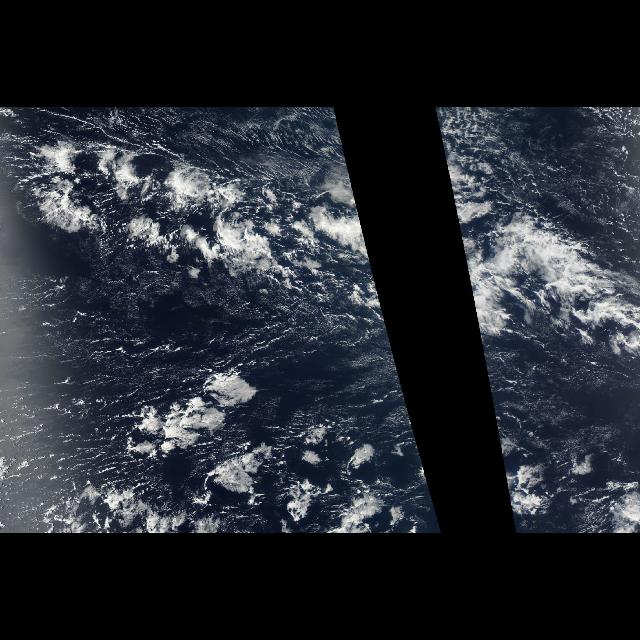Flower: (26, 132, 328, 288), (134, 362, 386, 524)
Sugar: (7, 271, 201, 383), (483, 341, 639, 457), (141, 110, 343, 166)
